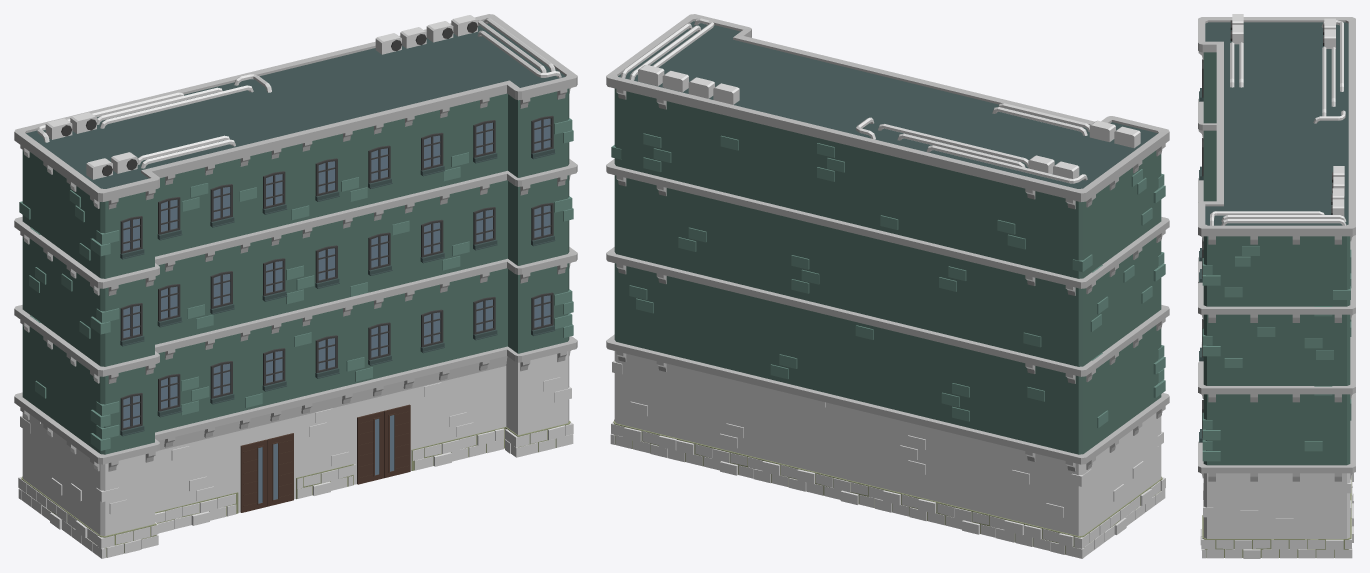
The model's file is Theater_Building.fbx.
The picture shows the model from 3 angles, left to right: view 1: azimuth 30°, elevation 25°; view 2: azimuth 150°, elevation 25°; view 3: azimuth 270°, elevation 25°; orthographic projection. The views are drawn at different scales.
Parts seen in each view (by area): view 1: 4Story_Wide_2Doors_Mat; view 2: 4Story_Wide_2Doors_Mat; view 3: 4Story_Wide_2Doors_Mat.
Boxes of the visible parts, bbox=[...] form: 4Story_Wide_2Doors_Mat: bbox=[14, 14, 577, 558]; 4Story_Wide_2Doors_Mat: bbox=[606, 14, 1169, 558]; 4Story_Wide_2Doors_Mat: bbox=[1198, 14, 1355, 558].
Bounding box in the file's own units: 683 × 514 × 215.
